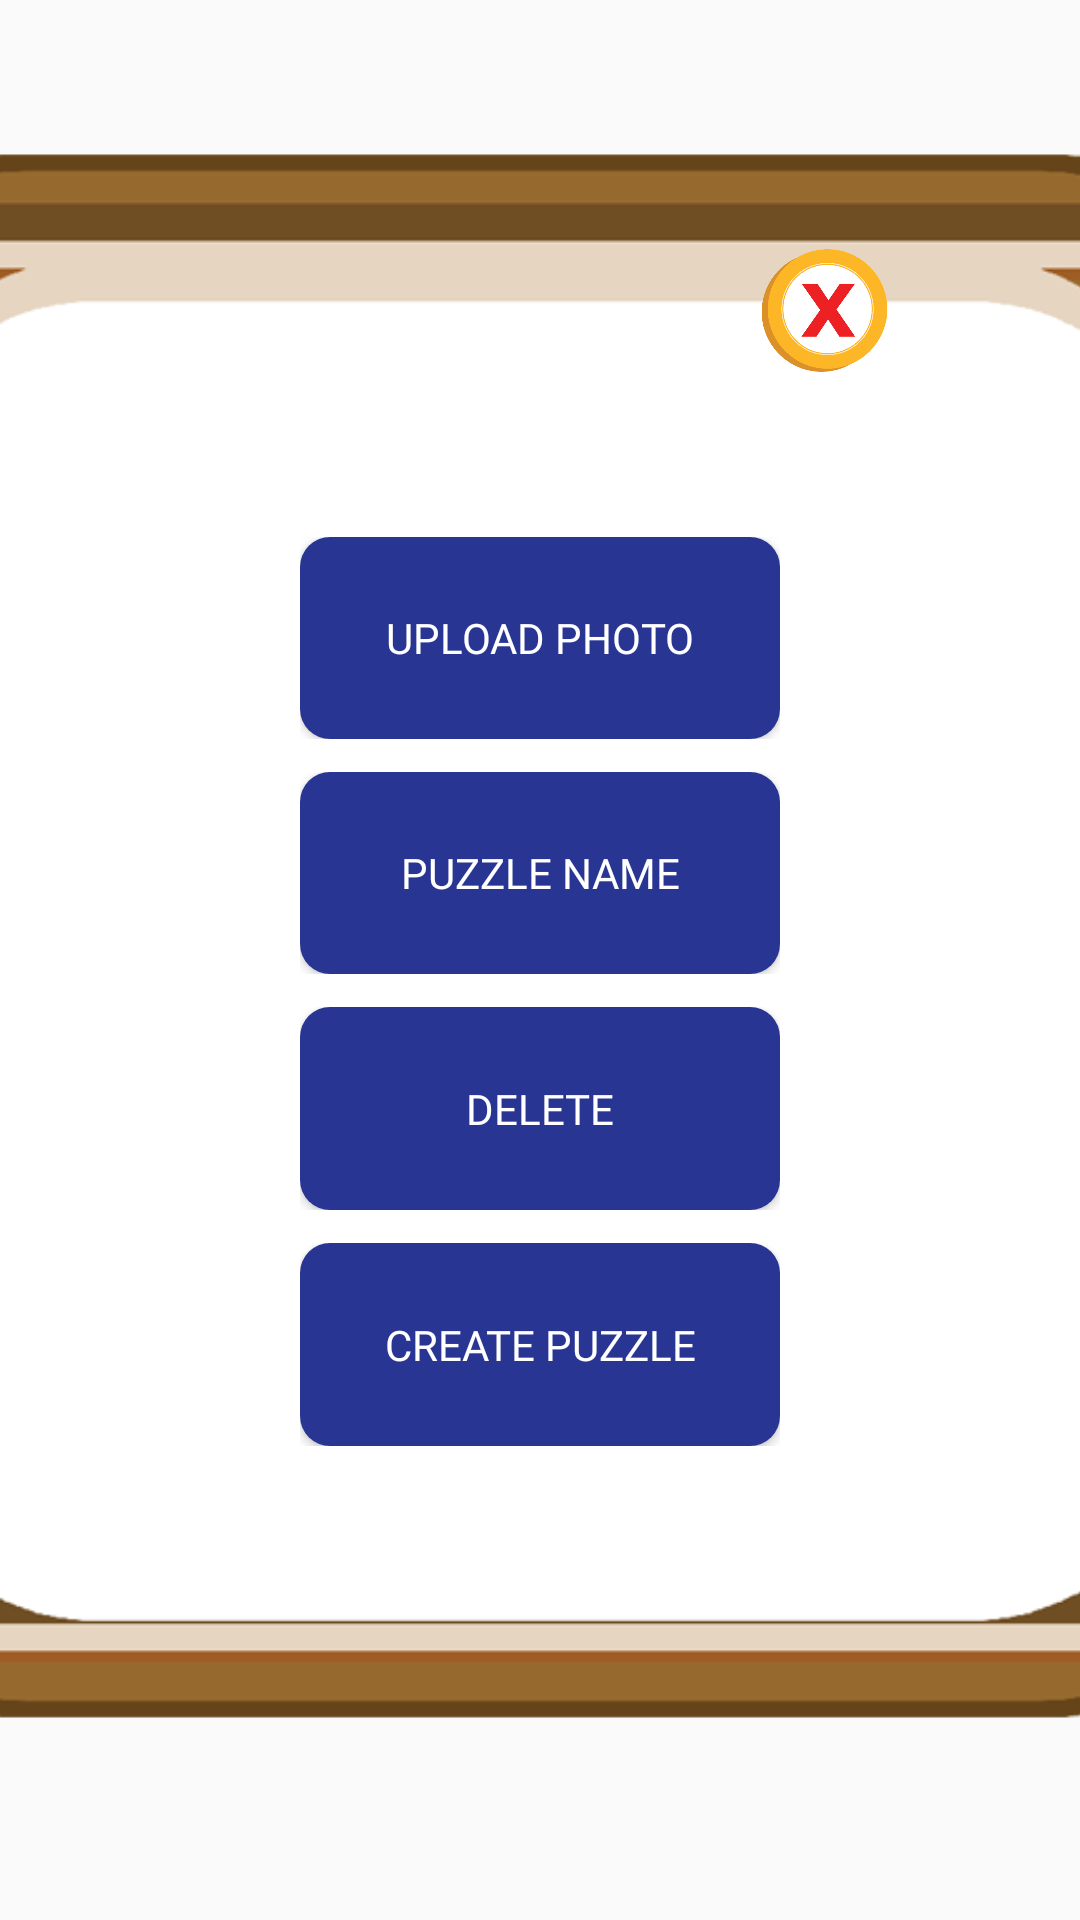

Point at icon controls on the screen. Image size 1080w x 1920h, points as (x,y).
canclebtn: (825,309)
